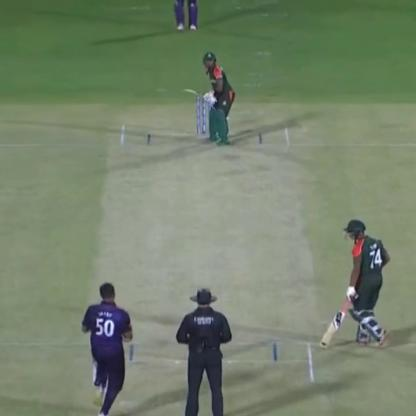bat: (320, 294, 350, 352), (179, 83, 214, 109)
pitch: (94, 118, 321, 393)
